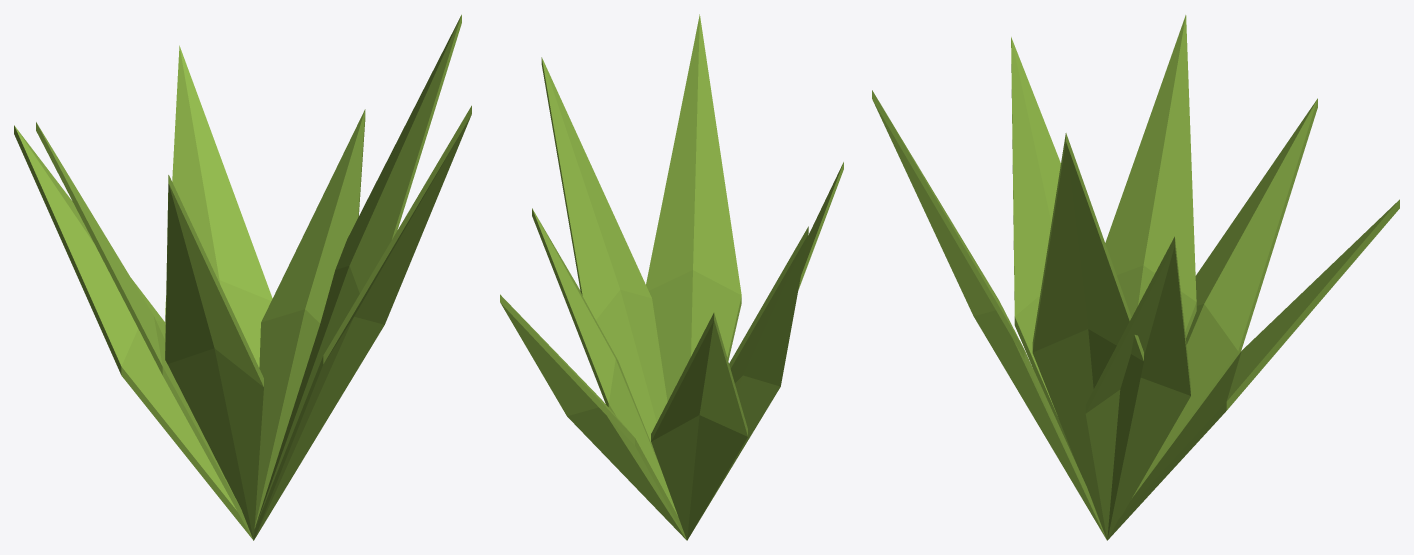
The picture shows the model from 3 angles, left to right: view 1: azimuth 30°, elevation 25°; view 2: azimuth 150°, elevation 25°; view 3: azimuth 270°, elevation 25°; orthographic projection. The views are drawn at different scales.
Parts seen in each view (by area): view 1: 完整草丛_2.001; view 2: 完整草丛_2.001; view 3: 完整草丛_2.001.
Part boxes in pixels (left/top/right/bottom): 完整草丛_2.001: left=14, top=14, right=471, bottom=540; 完整草丛_2.001: left=500, top=14, right=843, bottom=540; 完整草丛_2.001: left=872, top=15, right=1399, bottom=540.
Size of the model in its own units: 0.1688 by 0.2184 by 0.2084.
